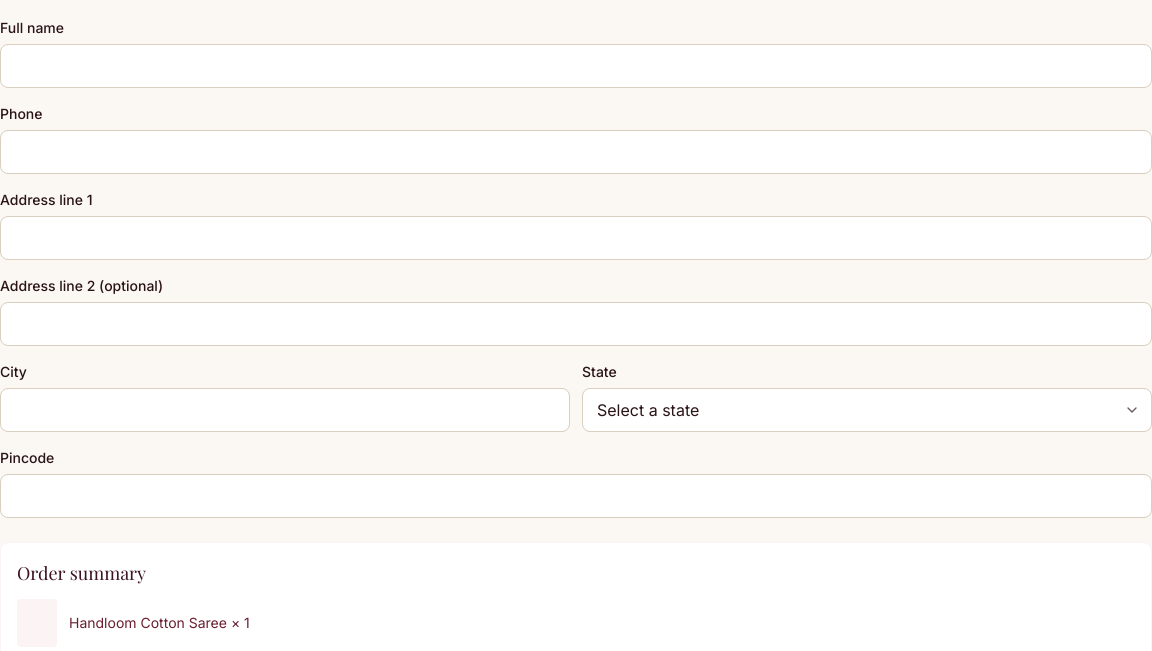
Test: CheckoutForm › pincode-based shipping › shows an error and no fee for an unknown pincode
Type "999999" into the field labelled "Pincode" at (576, 496), box [0, 474, 1151, 518]
(page scrolled)
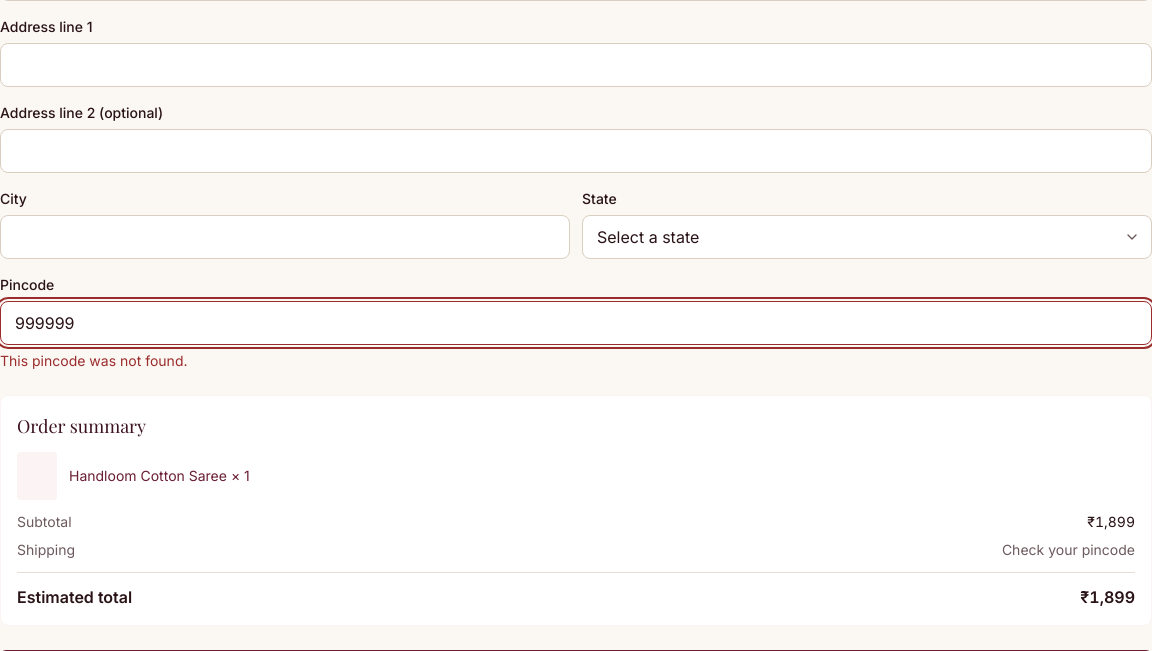
Result: the text "This pincode was not found." is shown at [0, 352, 188, 369]
Result: the text "Check your pincode" is shown at [1002, 540, 1135, 560]
